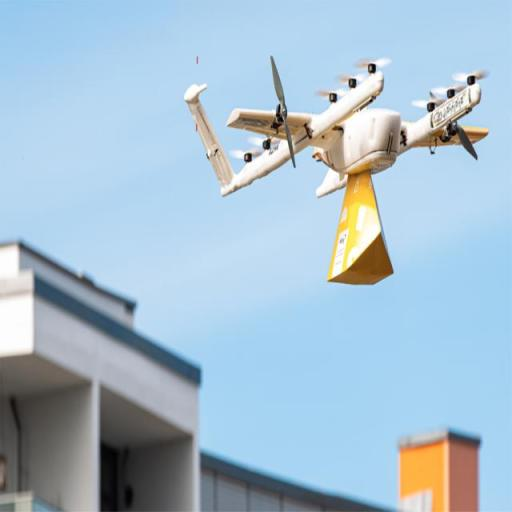uav: (182, 54, 493, 295)
